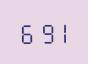nine: (36, 20, 52, 43)
one: (53, 19, 69, 43)
six: (18, 20, 34, 44)
